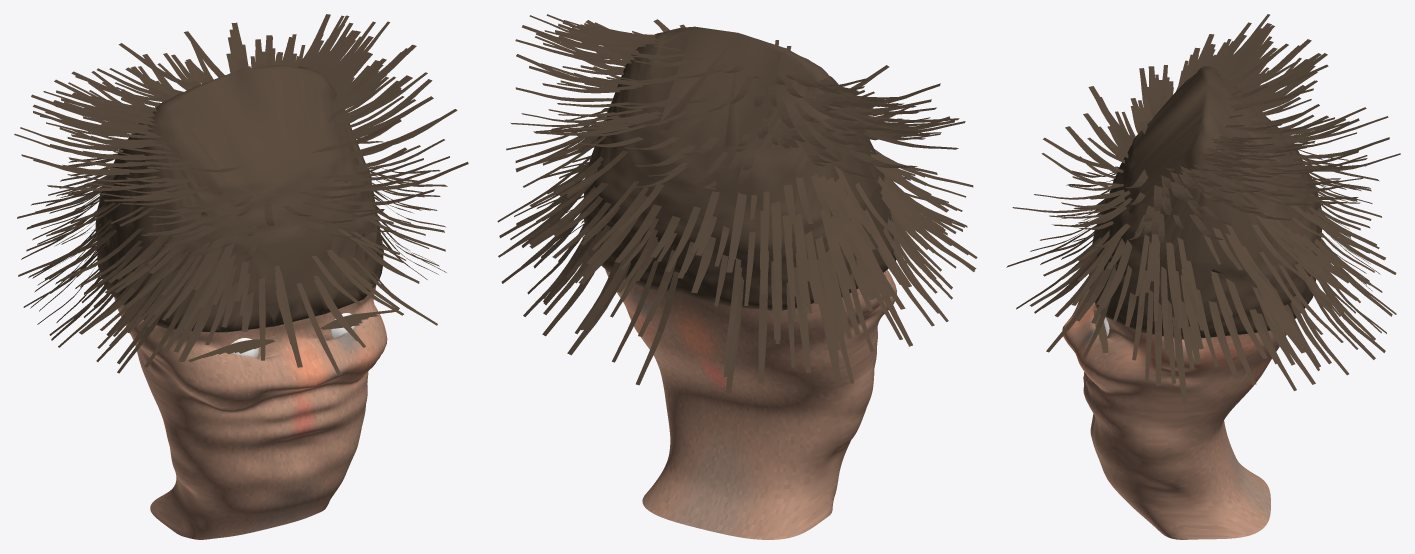
The model's file is TLS_mair_head_v3.glb.
3 views of the same model, side by side, from view 1: azimuth 30°, elevation 25°; view 2: azimuth 150°, elevation 25°; view 3: azimuth 270°, elevation 25° (orthographic). The views are drawn at different scales.
Parts seen in each view (by area): view 1: TLS_mair_HairCap, TLS_mair_Head, card.012, card.078, card.107, card.172, card.190, card.066; view 2: TLS_mair_Head, TLS_mair_HairCap, card.147, card.063, card.008, card.219, card.269, card.168, card.091, card.229, card.102, card.157 (+3 smaller); view 3: TLS_mair_Head, TLS_mair_HairCap, card.059, card.117, card.018, card.175, card.225, card.049, card.136, card.293, card.068.
Part boxes in pixels (<box>): TLS_mair_HairCap: <box>95,65,383,332</box>; TLS_mair_Head: <box>114,285,387,539</box>; card.012: <box>296,283,341,375</box>; card.078: <box>275,271,302,367</box>; card.107: <box>163,267,213,352</box>; card.172: <box>198,243,234,307</box>; card.190: <box>164,238,221,318</box>; card.066: <box>259,277,265,360</box>; TLS_mair_Head: <box>605,269,896,539</box>; TLS_mair_HairCap: <box>583,26,896,310</box>; card.147: <box>815,235,842,334</box>; card.063: <box>758,276,767,383</box>; card.008: <box>636,271,679,385</box>; card.219: <box>820,206,854,289</box>; card.269: <box>726,192,746,272</box>; card.168: <box>805,231,826,316</box>; card.091: <box>723,258,741,364</box>; card.229: <box>793,212,810,281</box>; card.102: <box>826,250,851,338</box>; card.157: <box>864,209,911,287</box>; TLS_mair_Head: <box>1062,288,1286,539</box>; TLS_mair_HairCap: <box>1089,66,1322,339</box>; card.059: <box>1208,301,1238,378</box>; card.117: <box>1225,278,1267,359</box>; card.018: <box>1172,316,1187,402</box>; card.175: <box>1100,239,1132,308</box>; card.225: <box>1166,242,1179,319</box>; card.049: <box>1154,303,1161,385</box>; card.136: <box>1161,266,1168,350</box>; card.293: <box>1088,86,1133,144</box>; card.068: <box>1145,290,1153,381</box>.
Size of the model in its own units: 0.26 by 0.2749 by 0.2336.
Materials: 7 (1 with a texture image).
